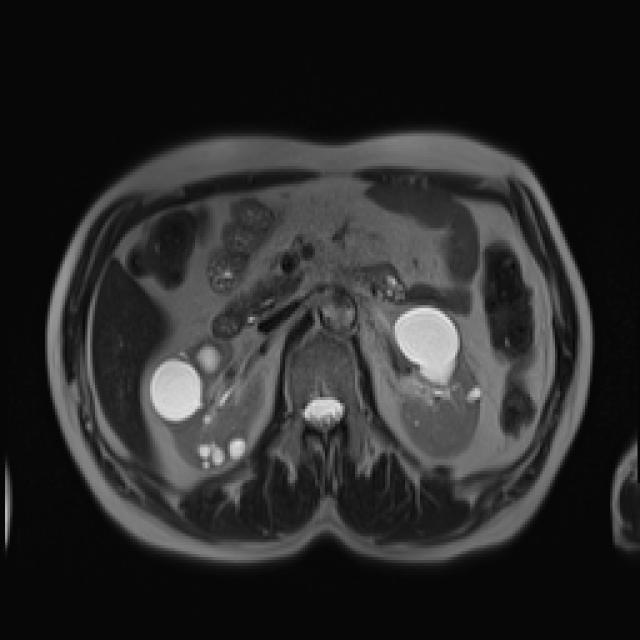sag: (150, 338, 268, 472)
sol: (389, 304, 482, 459)
